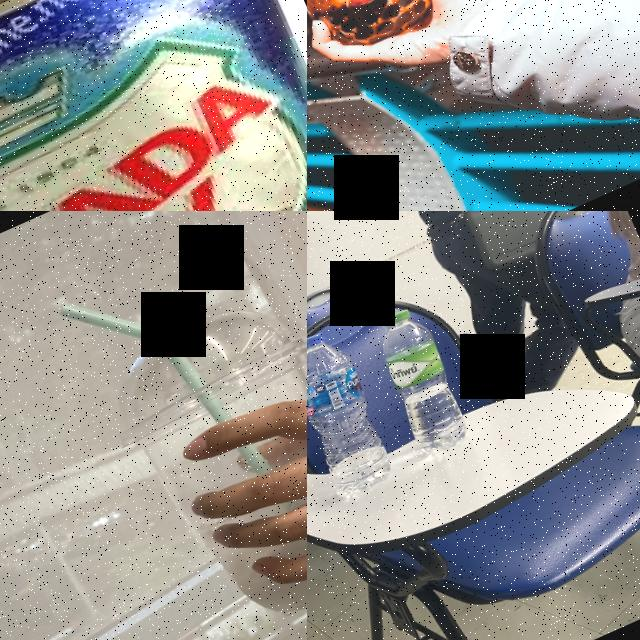bottle: (364, 301, 479, 461), (307, 324, 404, 503)
can: (0, 0, 307, 211)
cup: (84, 279, 307, 640), (307, 0, 468, 75)
